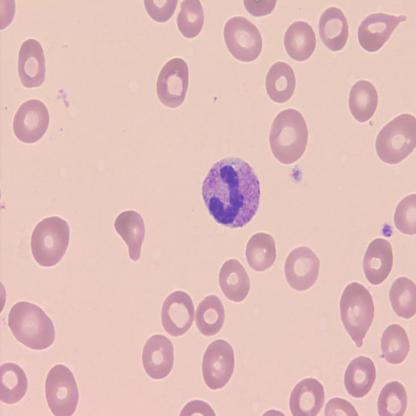Band Neutrophil: (199, 154, 262, 226)
